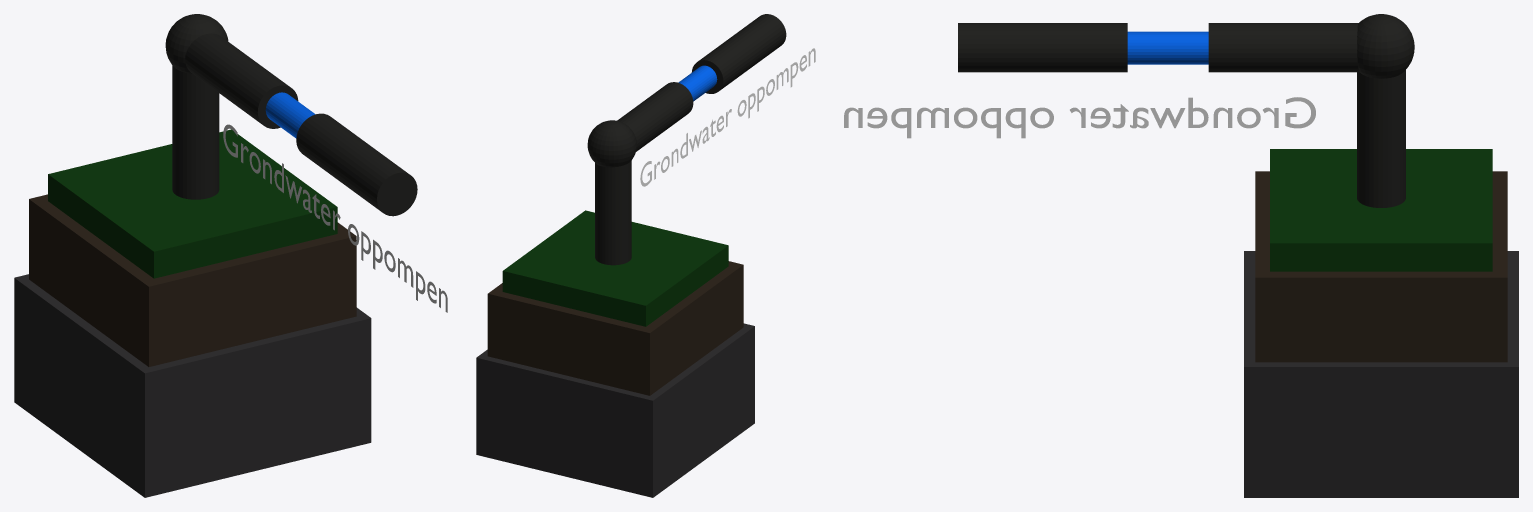
File: model1Oasen.gltf
3 views of the same model, side by side, from view 1: azimuth 30°, elevation 25°; view 2: azimuth 150°, elevation 25°; view 3: azimuth 270°, elevation 25° (orthographic). The views are drawn at different scales.
Visible parts, largest first — view 1: Object, Object.002, Object.001, Cylinder.003, Cylinder, Cylinder.001, Water pompen, Sphere, Cylinder.002; view 2: Object, Object.002, Object.001, Cylinder, Cylinder.003, Cylinder.001, Sphere, Water pompen, Cylinder.002; view 3: Object, Object.002, Object.001, Cylinder.003, Cylinder.001, Cylinder, Water pompen, Sphere, Cylinder.002.
Boxes of the visible parts, box(x1,y1,x2,y2) form: Object: box(14, 274, 371, 497); Object.002: box(29, 194, 356, 366); Object.001: box(48, 129, 337, 278); Cylinder.003: box(296, 113, 417, 216); Cylinder: box(172, 65, 219, 199); Cylinder.001: box(185, 33, 298, 128); Water pompen: box(223, 124, 447, 312); Sphere: box(165, 14, 228, 73); Cylinder.002: box(265, 92, 315, 138); Object: box(476, 323, 754, 497); Object.002: box(487, 261, 743, 395); Object.001: box(502, 210, 728, 326); Cylinder: box(595, 161, 631, 265); Cylinder.003: box(691, 14, 786, 93); Cylinder.001: box(617, 82, 693, 151); Sphere: box(587, 120, 636, 167); Water pompen: box(640, 48, 815, 186); Cylinder.002: box(678, 65, 717, 101); Object: box(1244, 251, 1518, 497); Object.002: box(1255, 171, 1507, 362); Object.001: box(1270, 149, 1492, 271); Cylinder.003: box(958, 23, 1127, 72); Cylinder.001: box(1208, 23, 1358, 72); Cylinder: box(1357, 70, 1405, 207); Water pompen: box(844, 97, 1315, 138); Sphere: box(1357, 14, 1414, 78); Cylinder.002: box(1127, 31, 1208, 64).
Bounding box in the file's own units: 5.57 × 9.54 × 13.69.
